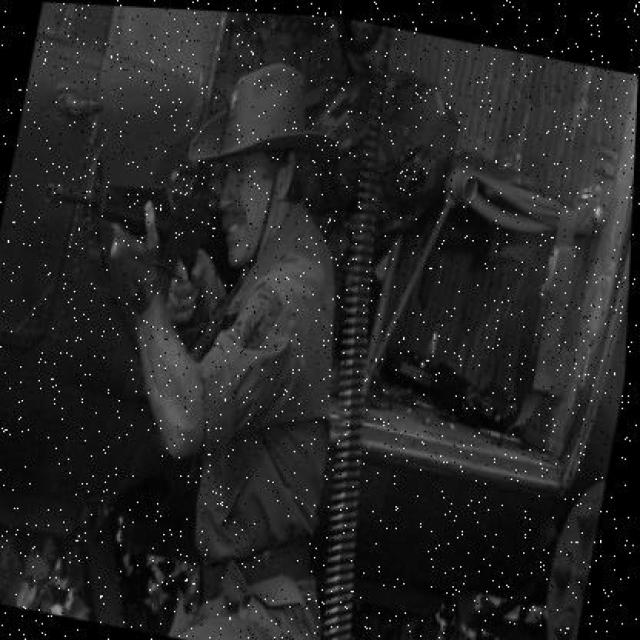weapon: (42, 162, 242, 310)
